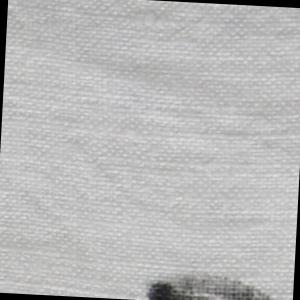Stain: (143, 264, 291, 300)
